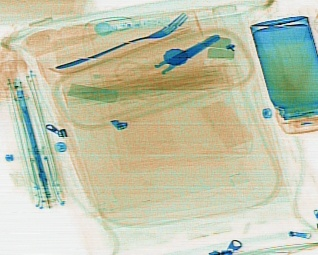scissors: (111, 33, 221, 103)
